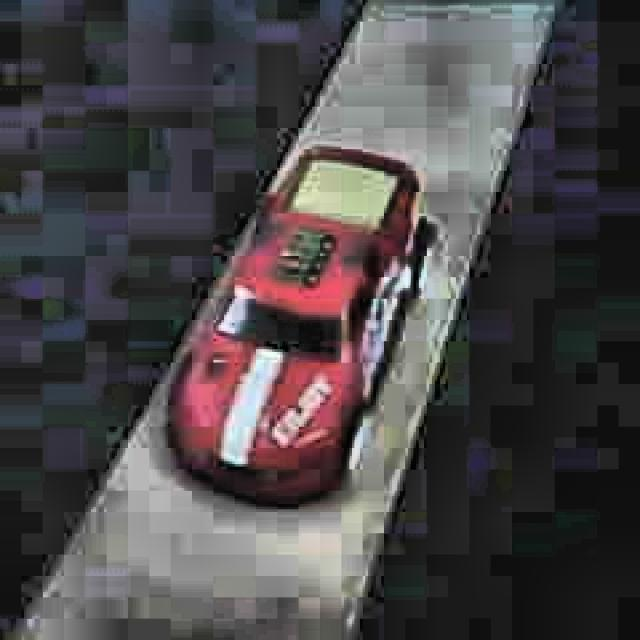car: (162, 142, 438, 514)
